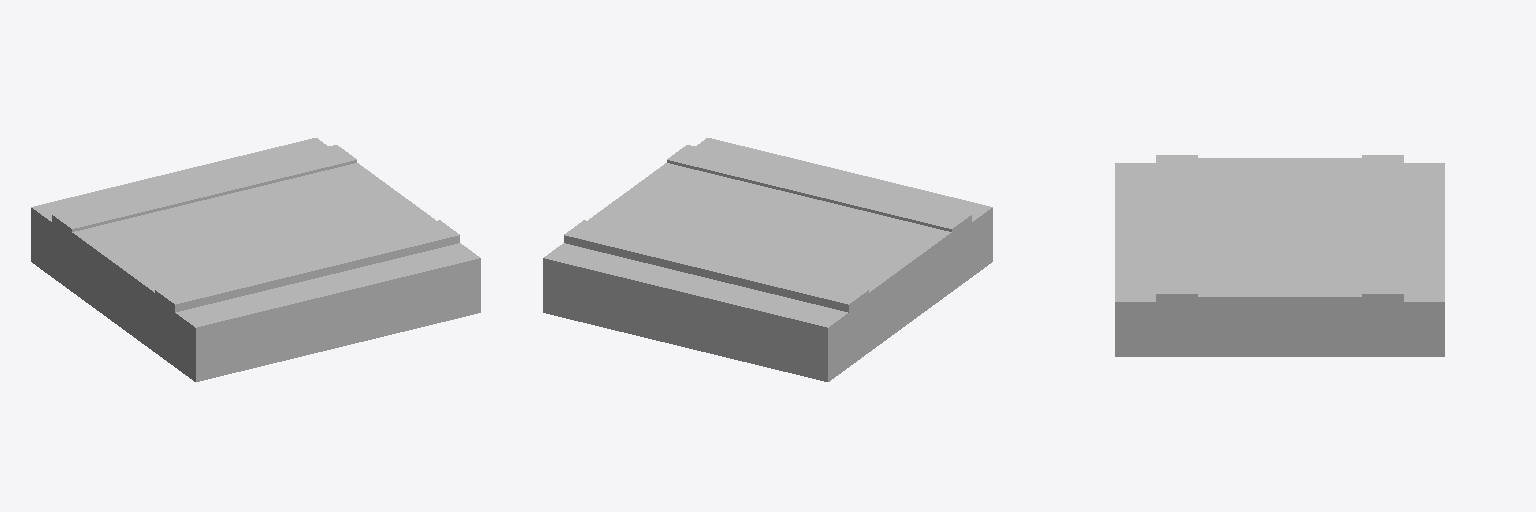
Rendered from tile034.obj.
3 views of the same model, side by side, from view 1: azimuth 30°, elevation 25°; view 2: azimuth 150°, elevation 25°; view 3: azimuth 270°, elevation 25° (orthographic).
Parts seen in each view (by area): view 1: tile034; view 2: tile034; view 3: tile034.
Part boxes in pixels (left/top/right/bottom): tile034: left=31, top=138, right=480, bottom=381; tile034: left=543, top=138, right=992, bottom=381; tile034: left=1115, top=155, right=1444, bottom=356.
Bounding box in the file's own units: 1 × 0.21 × 1.